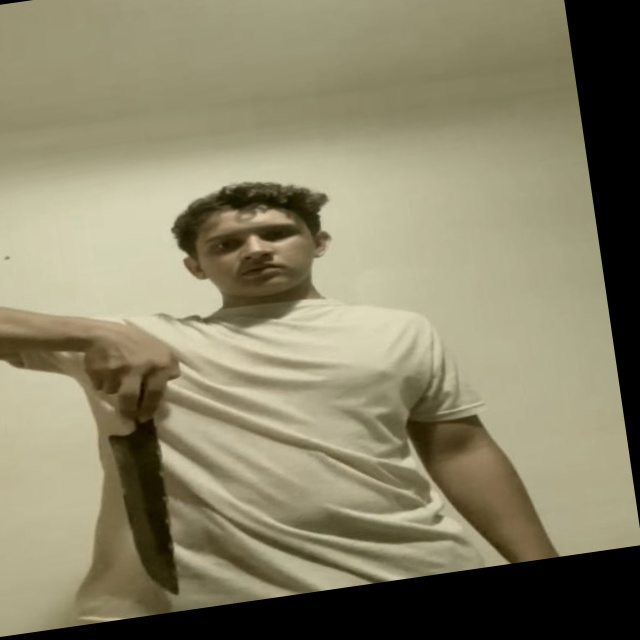Sharp-Object: (105, 422, 187, 604)
